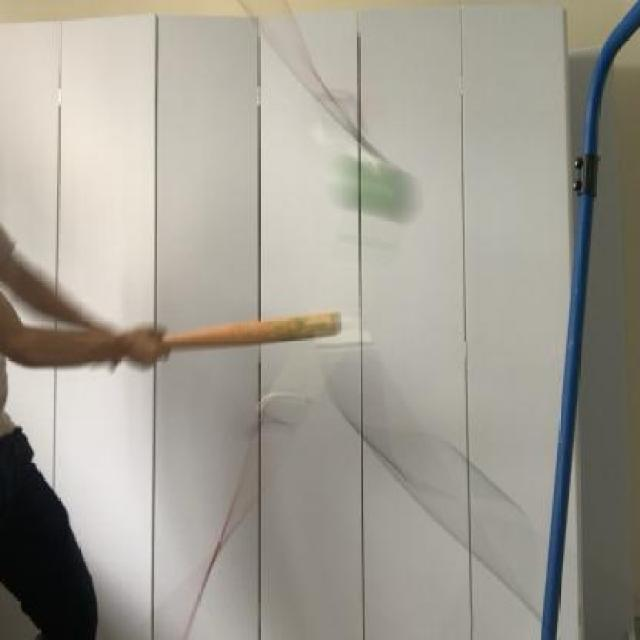baseball: (321, 140, 417, 235)
